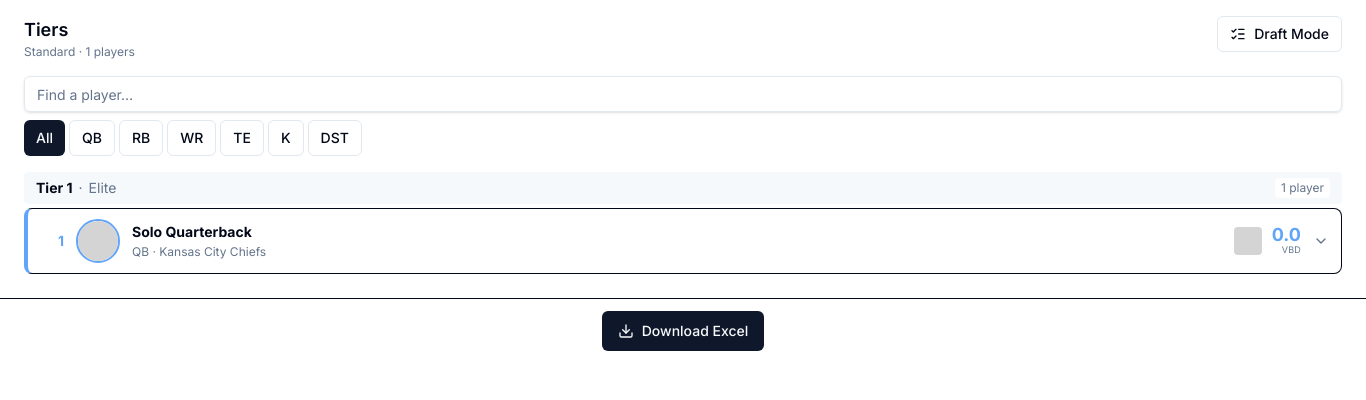
Test: TiersPanel › empty position filter › clicking 'Show all positions' resets to ALL and repopulates the list
Click the button "DST" at (335, 138), box [308, 120, 362, 156]
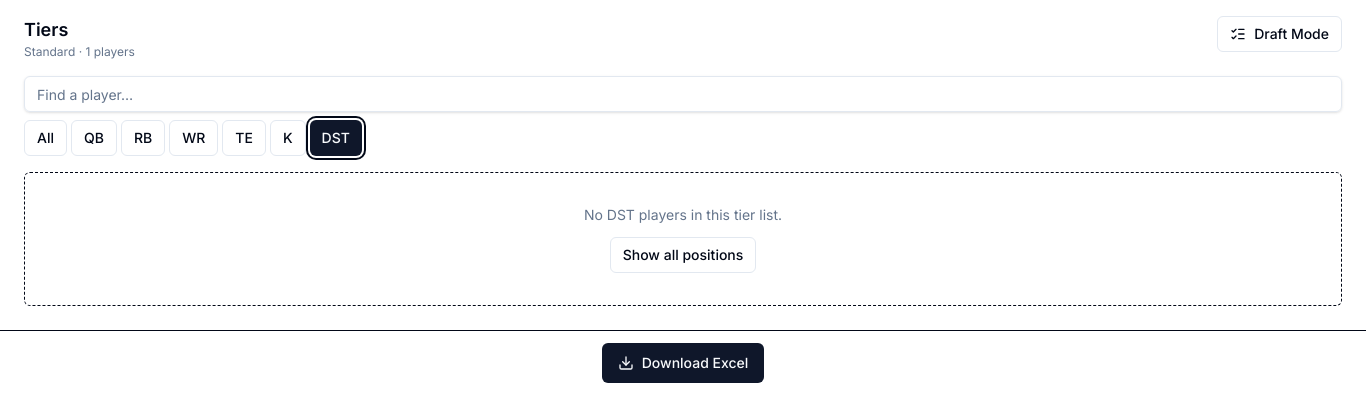
Expected: the text "No DST players in this tier list." is shown, [584, 206, 782, 223]
Click the button "Show all positions" at (683, 255), box [610, 237, 756, 273]
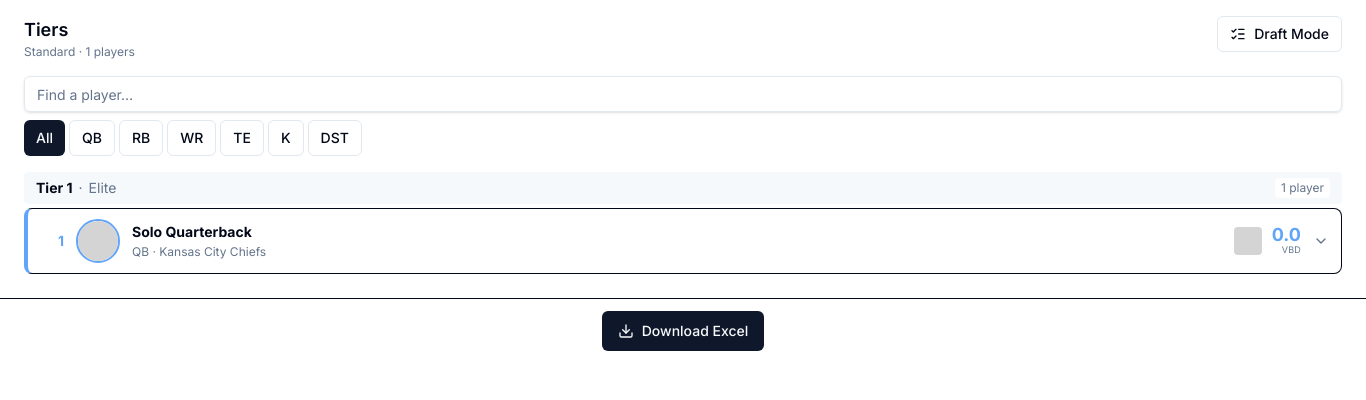
Expected: the text "No DST players in this tier list" is gone
Expected: the text "Solo Quarterback" is shown, [132, 222, 252, 242]
Expected: the text "Tier 1·Elite" is shown, [36, 178, 116, 198]
